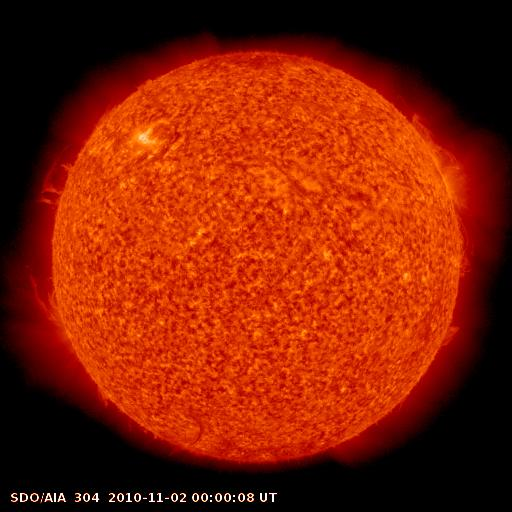prominence: (402, 105, 486, 205), (2, 256, 75, 338), (438, 211, 509, 289), (24, 139, 86, 215), (87, 380, 123, 420), (432, 316, 473, 351)
